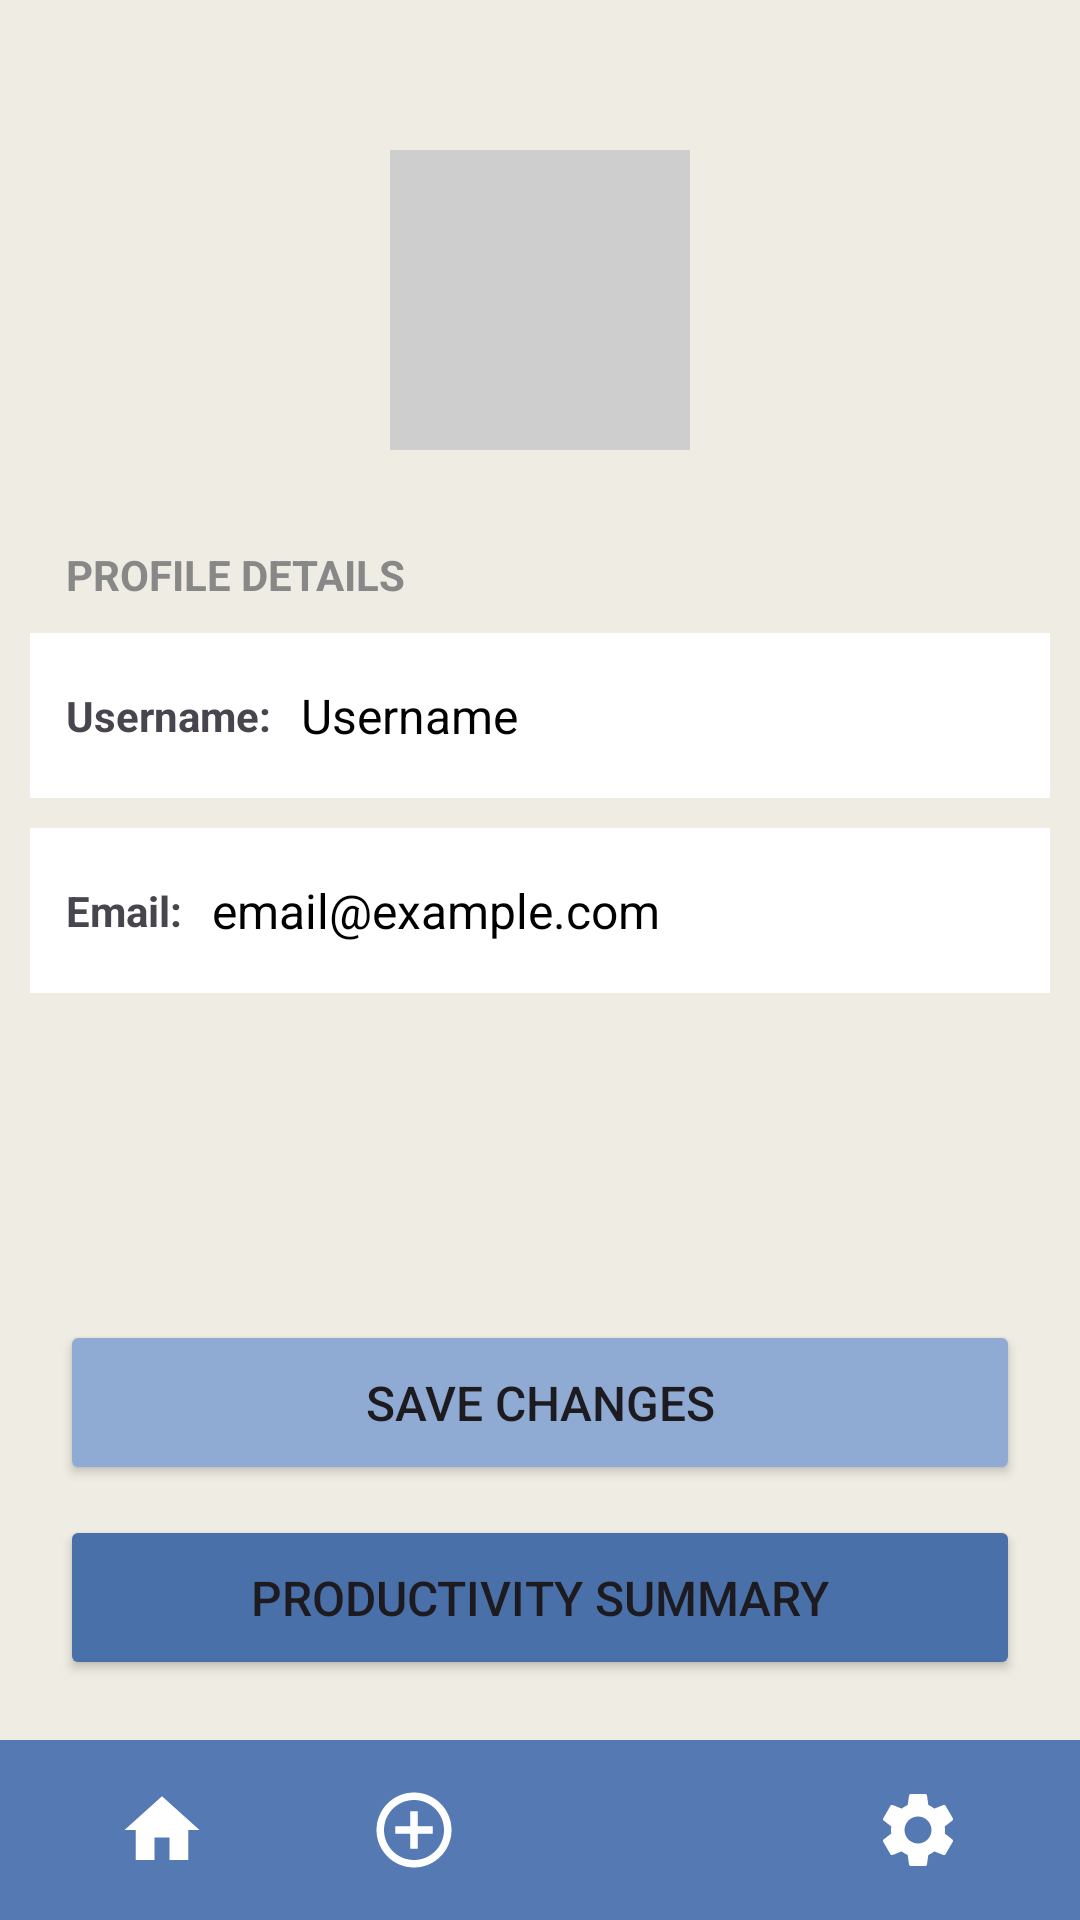

Screen size 1080px x 1920px. Icon name, then its center in pixels as (x=x, y=y):
Add: (x=414, y=1830)
Home: (x=162, y=1828)
Settings: (x=918, y=1830)
